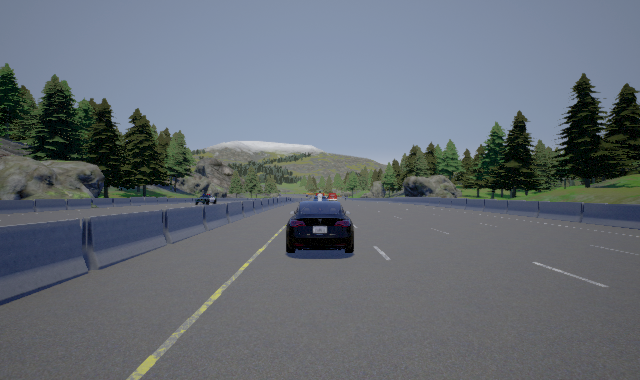vehicle: (286, 193, 354, 253)
